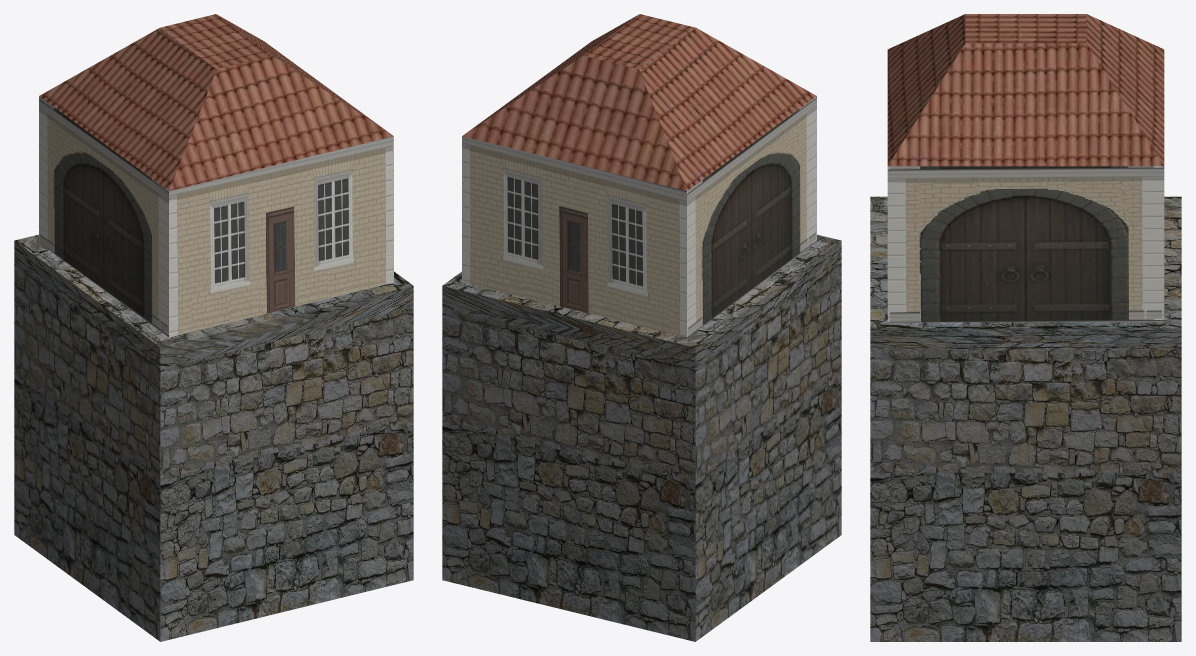
File: stonemason.glb
The picture shows the model from 3 angles, left to right: view 1: azimuth 30°, elevation 25°; view 2: azimuth 150°, elevation 25°; view 3: azimuth 270°, elevation 25°; orthographic projection. The views are drawn at different scales.
Parts seen in each view (by area): view 1: Cube.001, Cube; view 2: Cube.001, Cube; view 3: Cube.001, Cube.
Boxes of the visible parts, x1,y1,x2,y2 form: Cube.001: (14,234,413,641); Cube: (39,14,393,337); Cube.001: (442,234,841,641); Cube: (462,14,816,337); Cube.001: (870,196,1181,641); Cube: (887,14,1164,322).
Size of the model in its own units: 1.8 by 3.5 by 1.8.
Materials: 4 (4 with a texture image).
